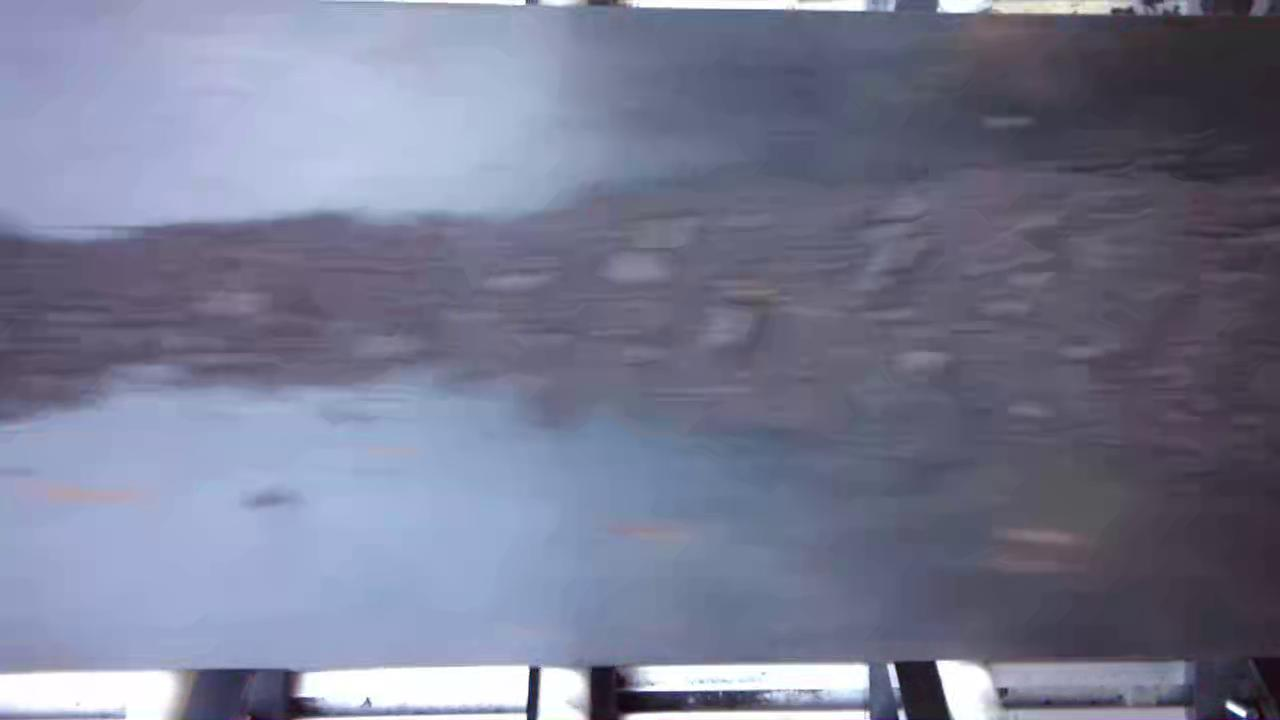conveyor: (1, 15, 1280, 659)
